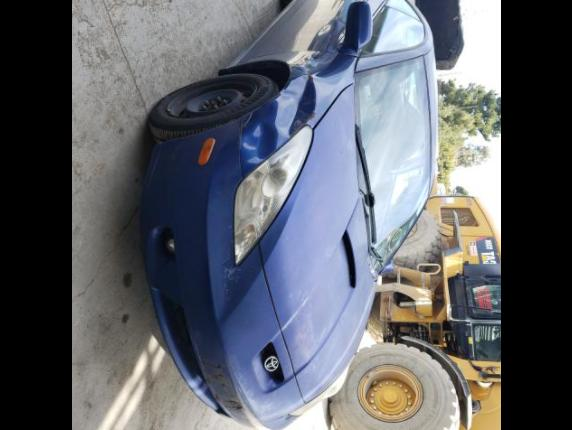Dent: (239, 67, 315, 175)
Flaking: (220, 260, 240, 289), (200, 362, 225, 385), (217, 396, 240, 410)
Missing part: (199, 361, 242, 407)
